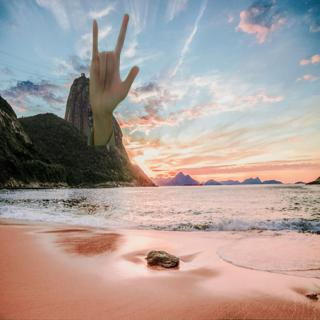ILY: (86, 11, 142, 118)
